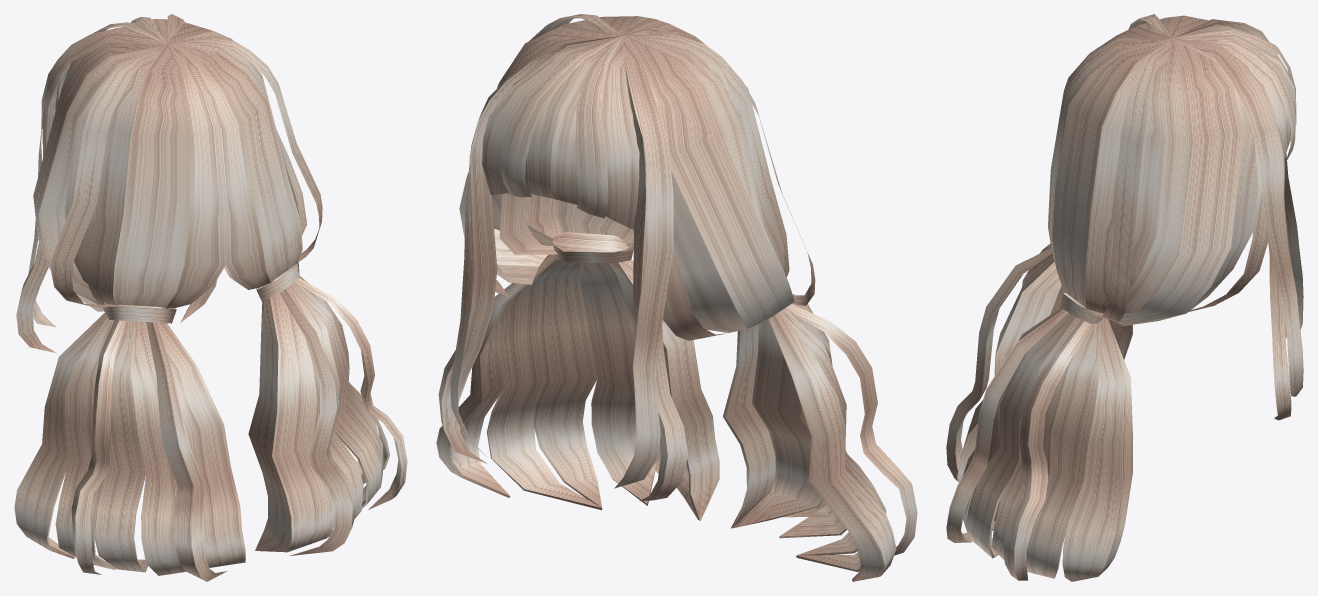
The picture shows the model from 3 angles, left to right: view 1: azimuth 30°, elevation 25°; view 2: azimuth 150°, elevation 25°; view 3: azimuth 270°, elevation 25°; orthographic projection. The views are drawn at different scales.
Visible parts, largest first — view 1: geometry_0; view 2: geometry_0; view 3: geometry_0.
Boxes of the visible parts, x1,y1,x2,y2 form: geometry_0: (14,14,407,581); geometry_0: (436,14,917,581); geometry_0: (946,14,1303,581).
Bounding box in the file's own units: 2.45 × 2.96 × 1.97.
Materials: 1 (1 with a texture image).
